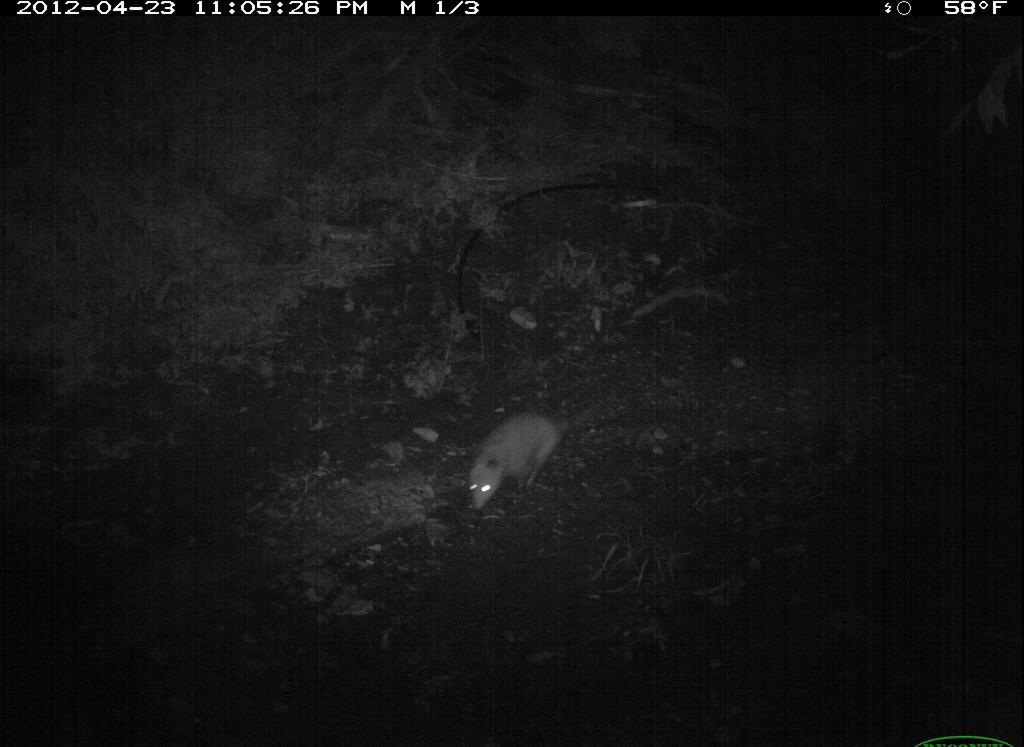opossum: (463, 390, 617, 520)
